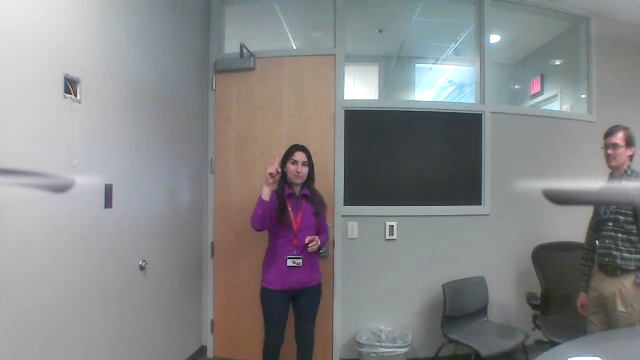up: (263, 148, 284, 183)
